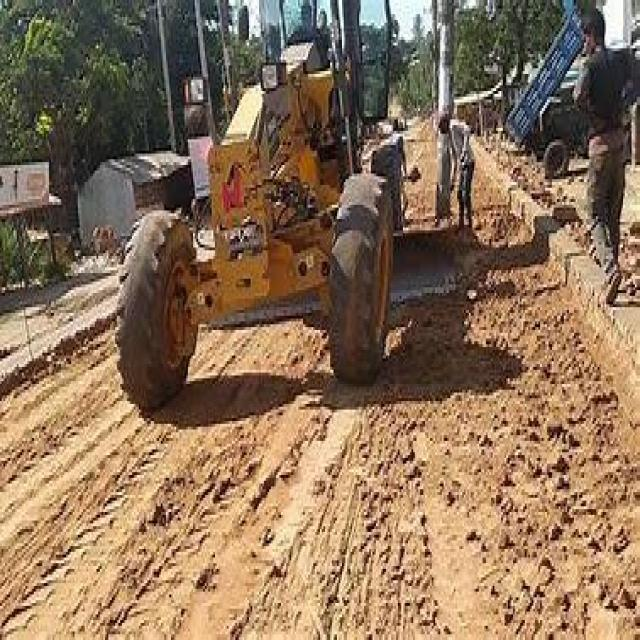Grader: (108, 0, 466, 401)
